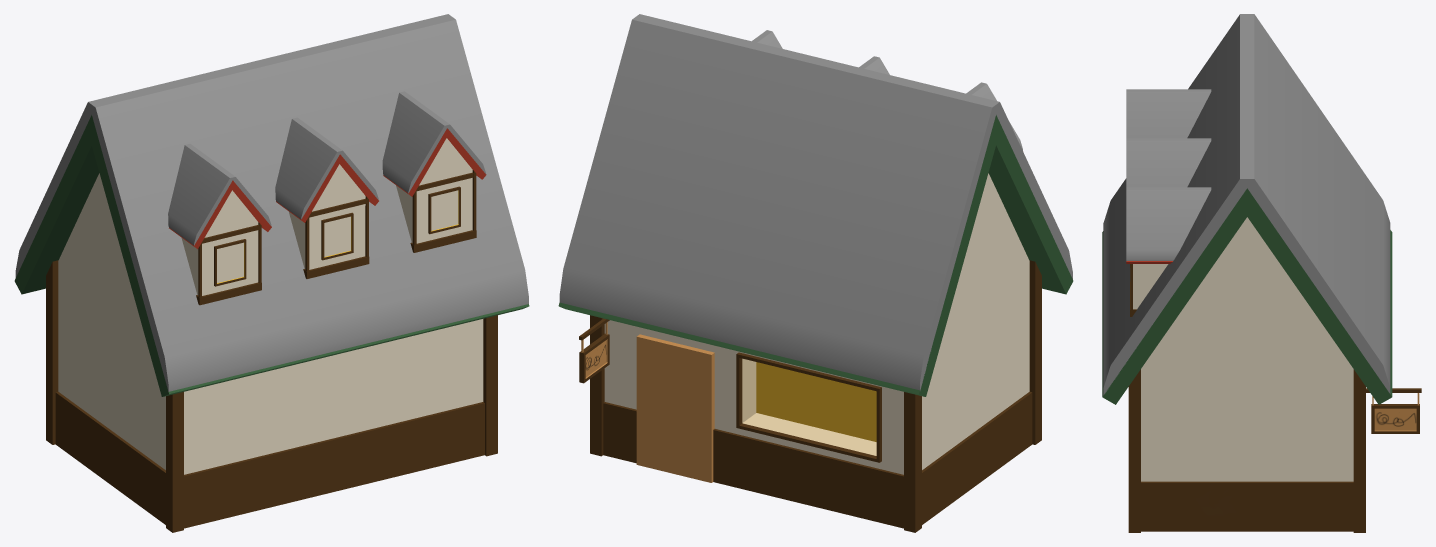
The model's file is hosue_6.fbx.
3 views of the same model, side by side, from view 1: azimuth 30°, elevation 25°; view 2: azimuth 150°, elevation 25°; view 3: azimuth 270°, elevation 25° (orthographic). The views are drawn at different scales.
Parts seen in each view (by area): view 1: Object009, Object058; view 2: Object058, Object009, Object057; view 3: Object009, Object058.
Part boxes in pixels (bbox=[...]): Object009: bbox=[14, 115, 529, 532]; Object058: bbox=[15, 14, 528, 391]; Object058: bbox=[559, 14, 1072, 390]; Object009: bbox=[558, 115, 1073, 532]; Object057: bbox=[756, 362, 876, 441]; Object009: bbox=[1102, 188, 1421, 532]; Object058: bbox=[1103, 14, 1390, 395].
Size of the model in its own units: 62.84 by 64.36 by 51.46.
